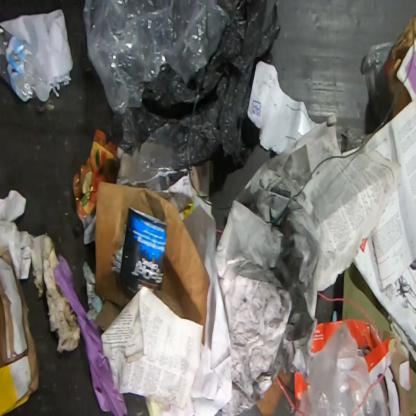cardboard: (95, 181, 209, 333), (310, 318, 413, 416), (0, 248, 41, 415), (343, 263, 391, 332), (384, 15, 415, 117), (294, 372, 306, 408)
rigid_plastic: (1, 25, 50, 102), (360, 41, 396, 126)
soft_plastic: (112, 1, 280, 192), (83, 1, 236, 113), (294, 321, 388, 416), (112, 126, 180, 188)
